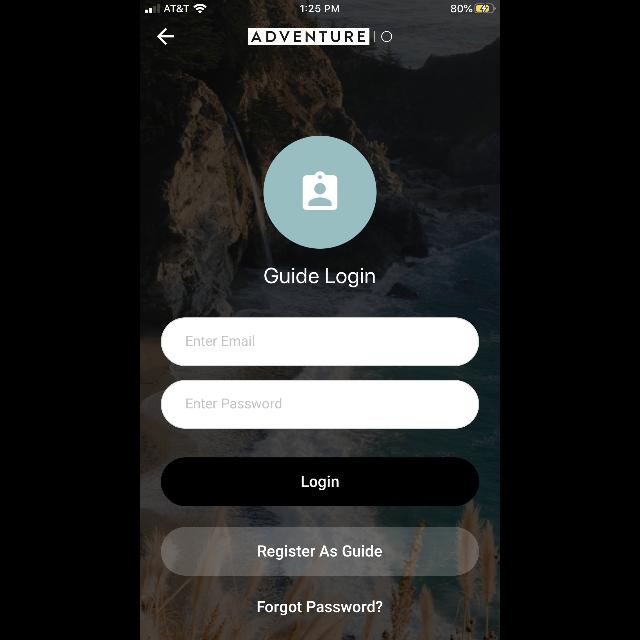backgroundimage: (140, 1, 500, 640)
icon: (264, 136, 376, 248), (157, 27, 175, 45)
image: (248, 28, 392, 46)
input: (161, 318, 479, 367), (161, 379, 479, 428)
text: (264, 268, 376, 288), (258, 600, 382, 616), (186, 398, 282, 408), (187, 336, 255, 346)
textbutton: (161, 526, 479, 576), (161, 458, 479, 507)
uppertaskbar: (140, 0, 500, 14)
